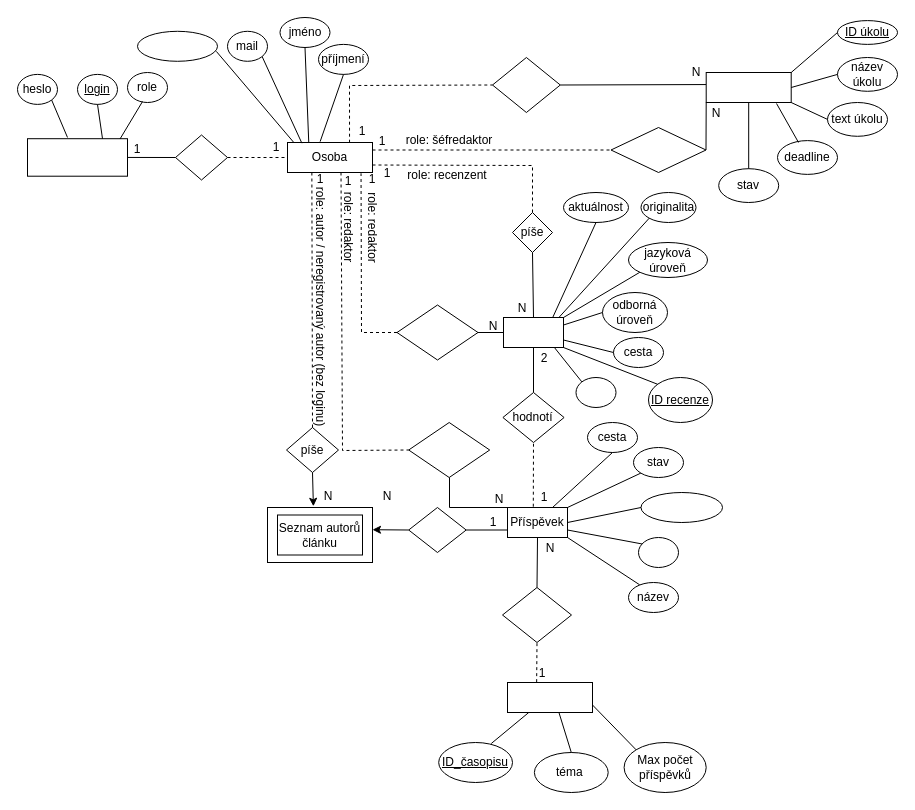
The diagram is 915 pixels wide and 810 high, and some of its shapes have lost their labels. Here are the shapes that lost their labels. From the top down, the centre of each, then its label:
At point (177, 45): "ID uživatele".
At point (526, 84): "plní".
At point (748, 87): "Úkol".
At point (77, 157): "Profil".
At point (201, 157): "má".
At point (658, 149): "přiděluje".
At point (437, 332): "administruje".
At point (533, 332): "Recenze".
At point (595, 392): "Termín".
At point (449, 450): "zveřejňuje".
At point (681, 507): "ID příspěvku".
At point (437, 529): "je psán".
At point (658, 552): "verze".
At point (537, 614): "je zahrnut".
At point (549, 697): "Časopis".
